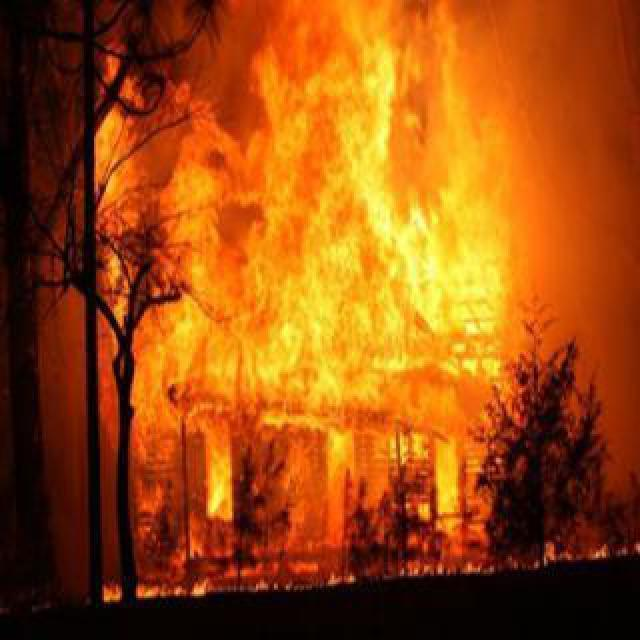Fire: (152, 0, 500, 378), (134, 382, 493, 584)
